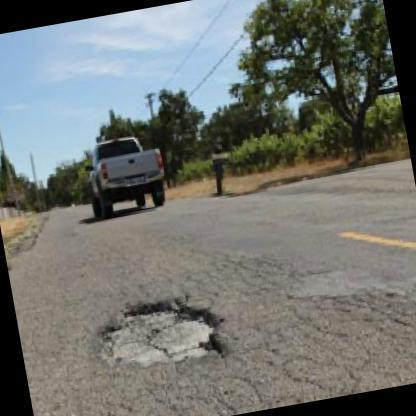pothole: (100, 294, 226, 364)
